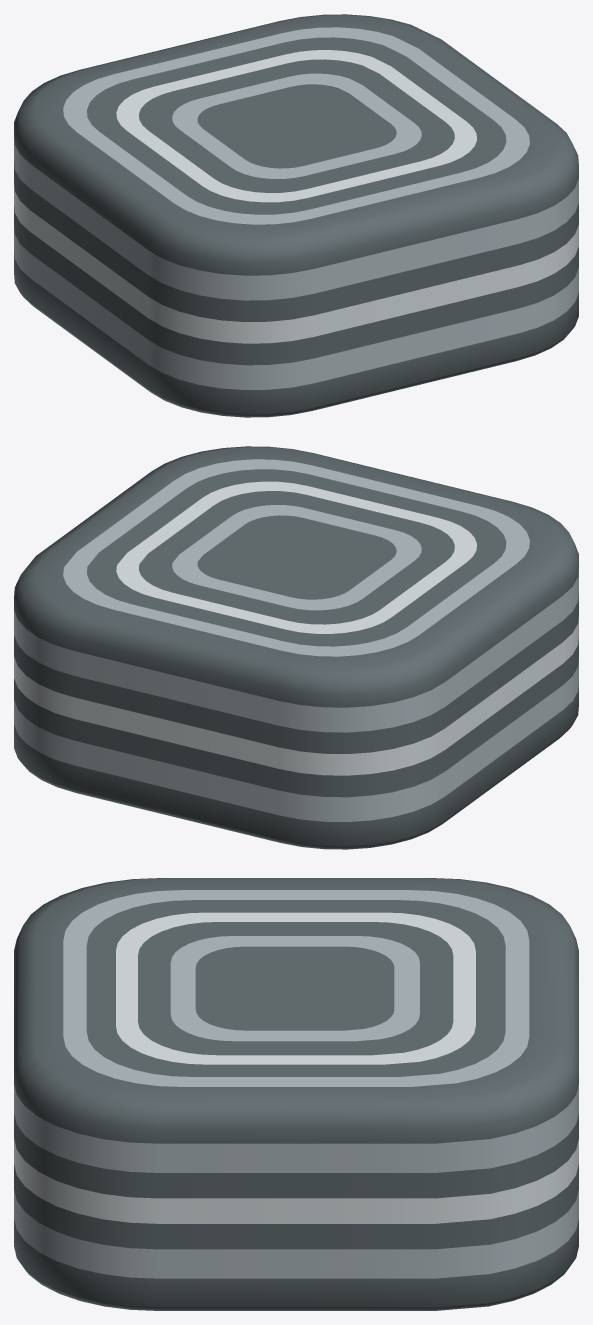
File: Block.FBX
The picture shows the model from 3 angles, top to bottom: view 1: azimuth 30°, elevation 25°; view 2: azimuth 150°, elevation 25°; view 3: azimuth 270°, elevation 25°; orthographic projection. The views are drawn at different scales.
Visible parts, largest first — view 1: Block; view 2: Block; view 3: Block.
Boxes of the visible parts, <box> form: Block: <box>14,14,578,417</box>; Block: <box>14,446,578,849</box>; Block: <box>14,878,578,1310</box>.
Bounding box in the file's own units: 90 × 36 × 90.
